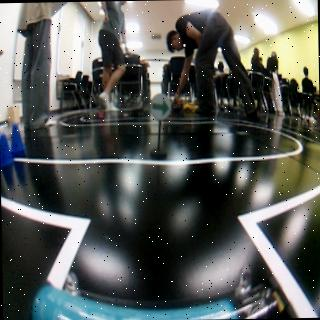right: (150, 93, 168, 121)
